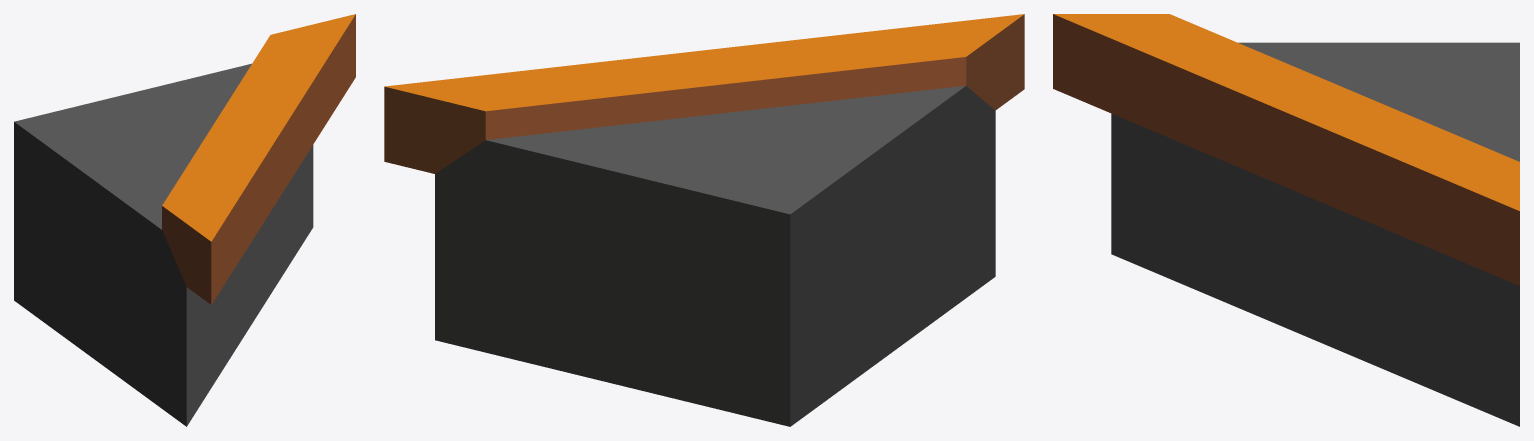
The model's file is COSMIC_F_Perimeter_1U_90_Outer.fbx.
3 renders of one model, left to right at view 1: azimuth 30°, elevation 25°; view 2: azimuth 150°, elevation 25°; view 3: azimuth 270°, elevation 25°, orthographic. The views are drawn at different scales.
Visible parts, largest first — view 1: COSMIC_F_Perimeter_1U_90_Outer; view 2: COSMIC_F_Perimeter_1U_90_Outer; view 3: COSMIC_F_Perimeter_1U_90_Outer.
Boxes of the visible parts, box(x1,y1,x2,y2) form: COSMIC_F_Perimeter_1U_90_Outer: box(14, 14, 355, 426); COSMIC_F_Perimeter_1U_90_Outer: box(384, 14, 1024, 426); COSMIC_F_Perimeter_1U_90_Outer: box(1053, 14, 1519, 426).
Bounding box in the file's own units: 0.5 × 0.2839 × 0.5.
